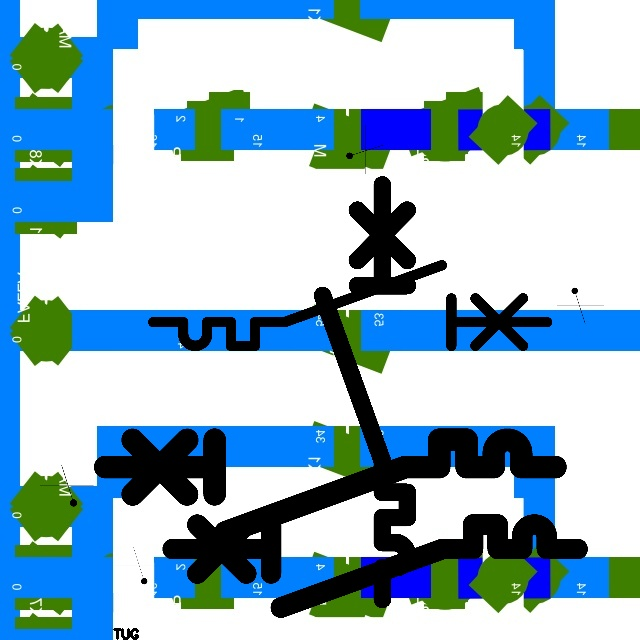interruptor_termomagnetico: (93, 428, 567, 544), (312, 174, 418, 610), (162, 514, 588, 618), (143, 255, 557, 356)
